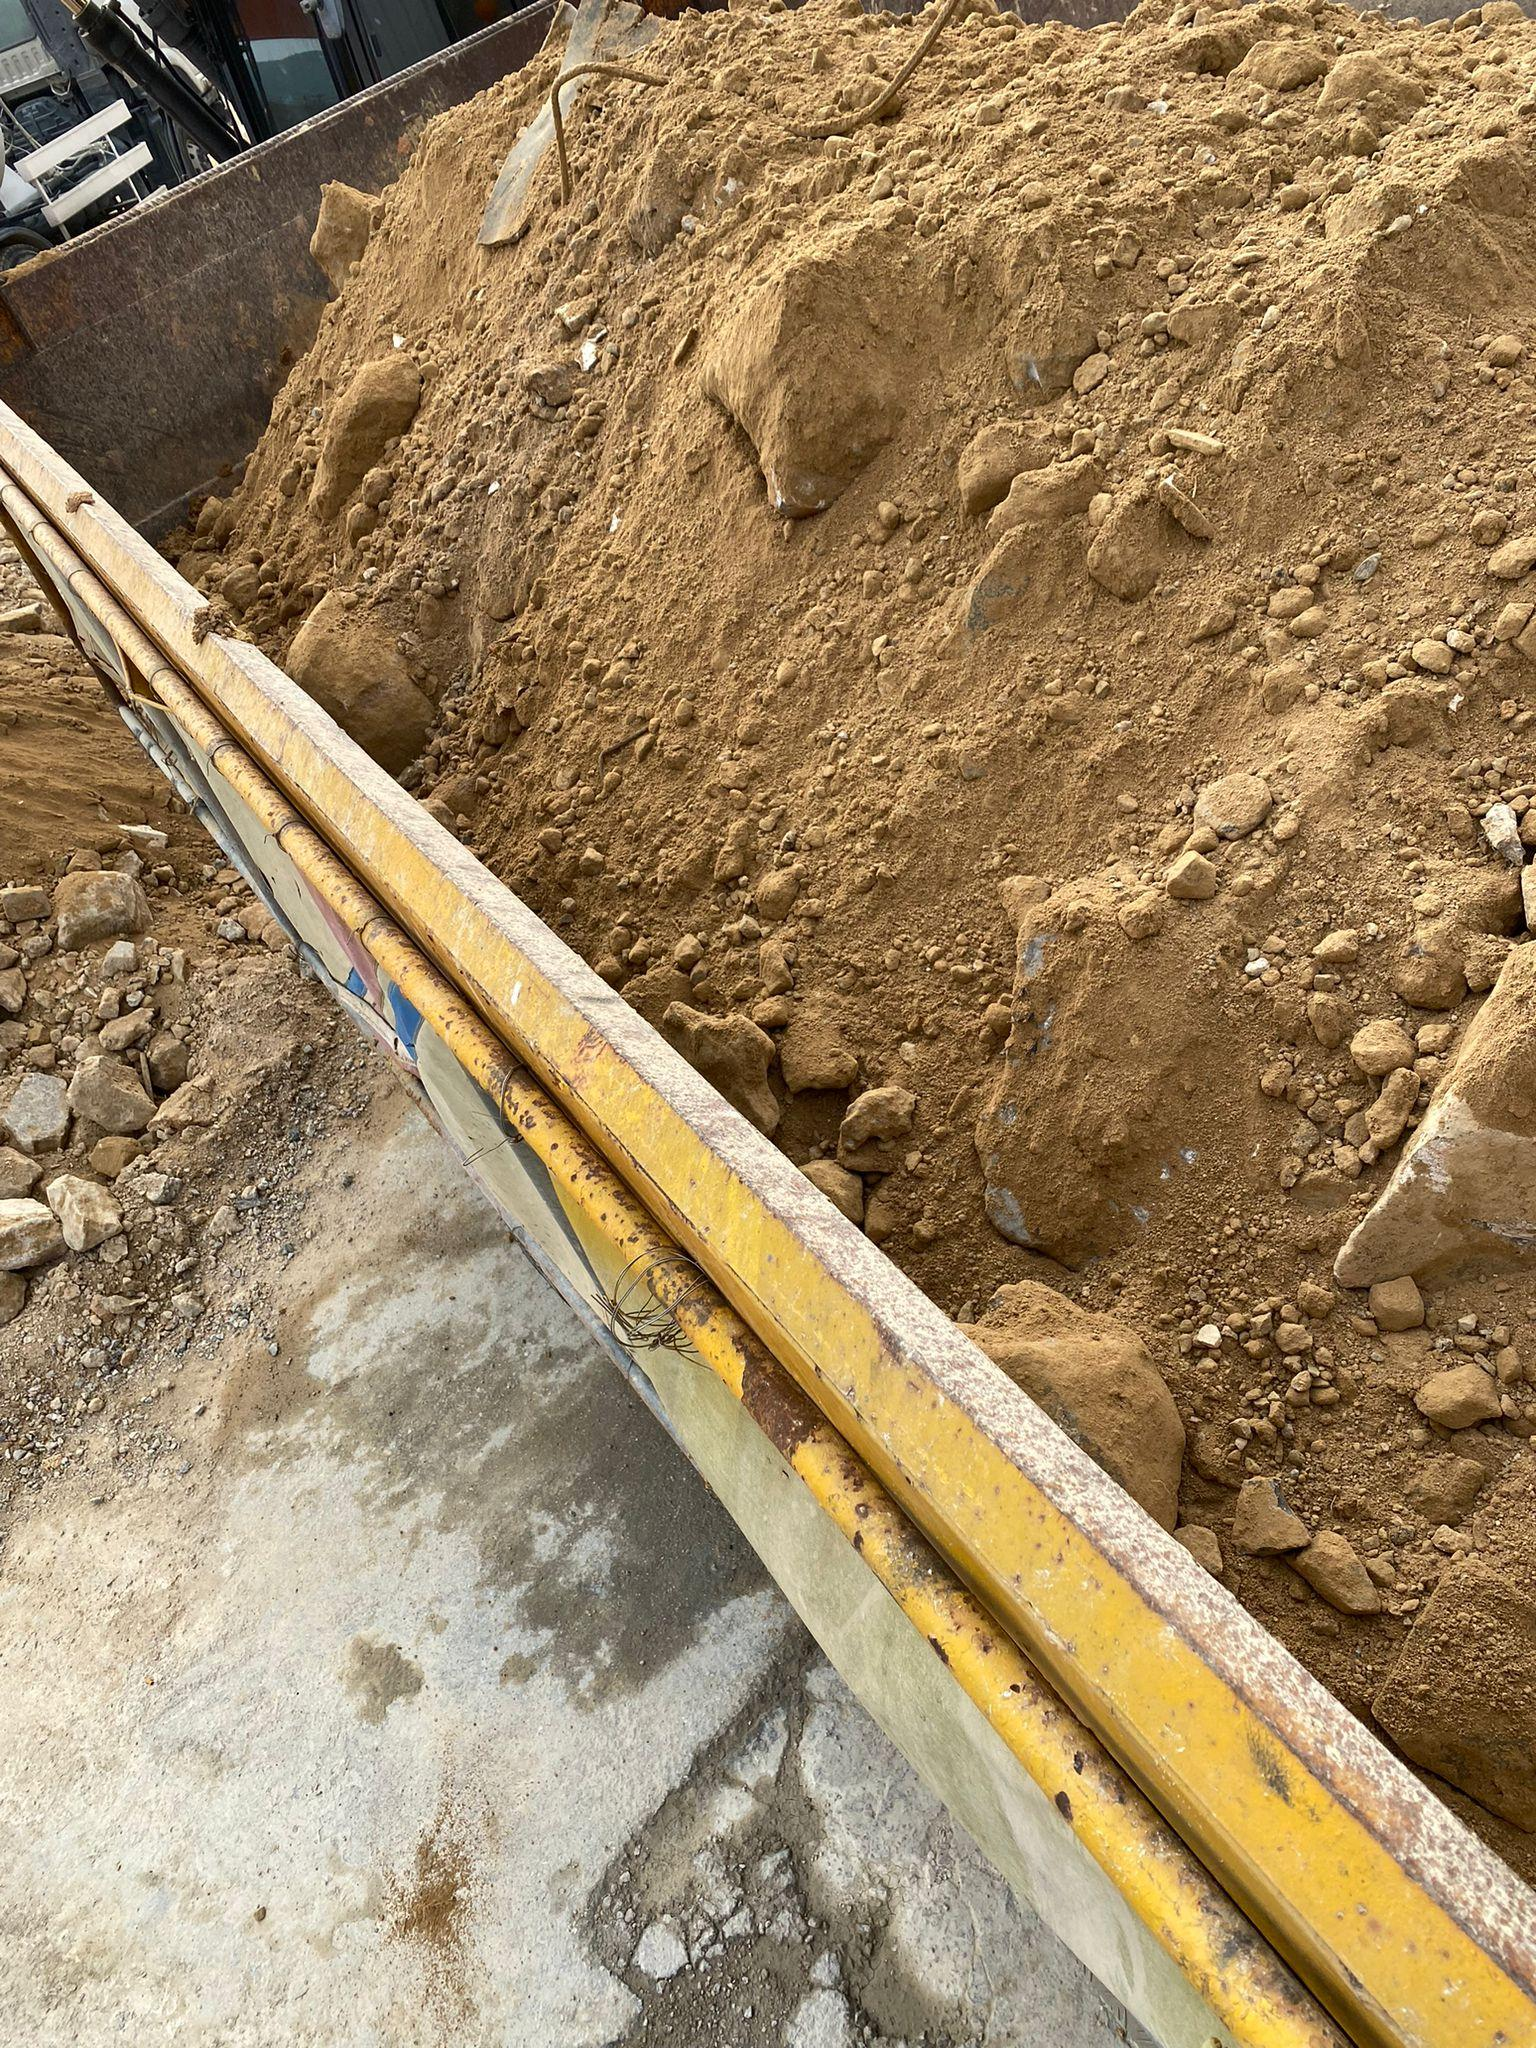dry: (194, 0, 1536, 1874)
